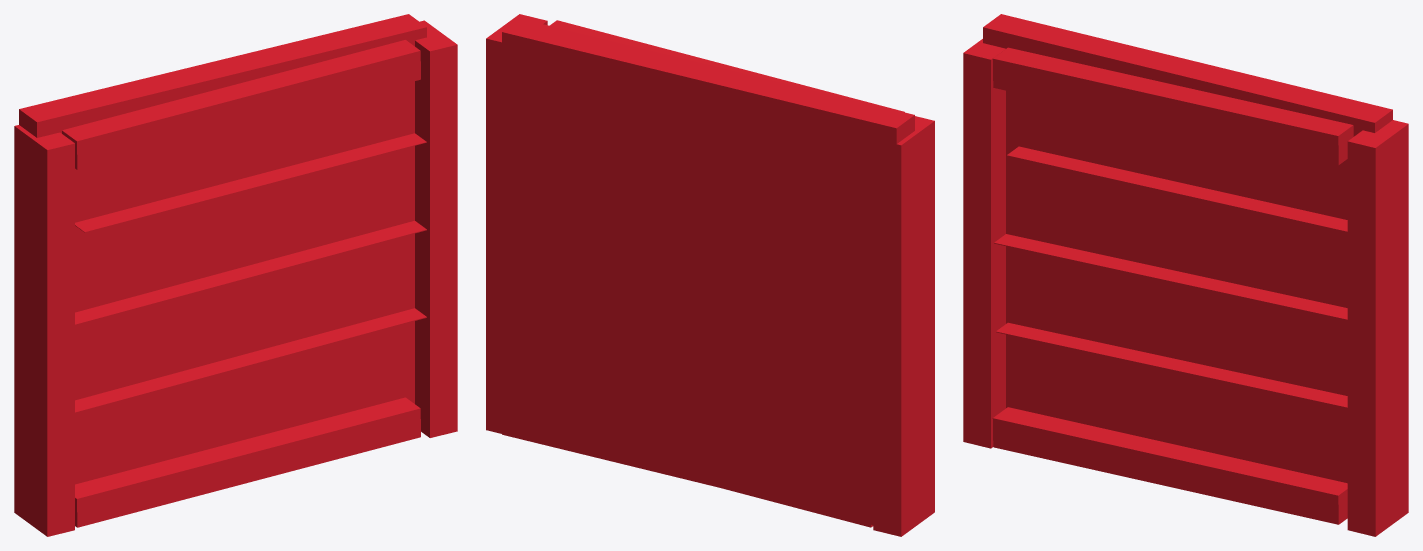
File: tinker.obj
The picture shows the model from 3 angles, left to right: view 1: azimuth 30°, elevation 25°; view 2: azimuth 150°, elevation 25°; view 3: azimuth 330°, elevation 25°; orthographic projection.
Visible parts, largest first — view 1: obj_0; view 2: obj_0; view 3: obj_0.
Part boxes in pixels (box(x1,y1,x2,y2)): obj_0: box(14, 14, 457, 536); obj_0: box(486, 14, 934, 536); obj_0: box(963, 14, 1408, 536).
Size of the model in its own units: 78.65 by 73.76 by 11.
